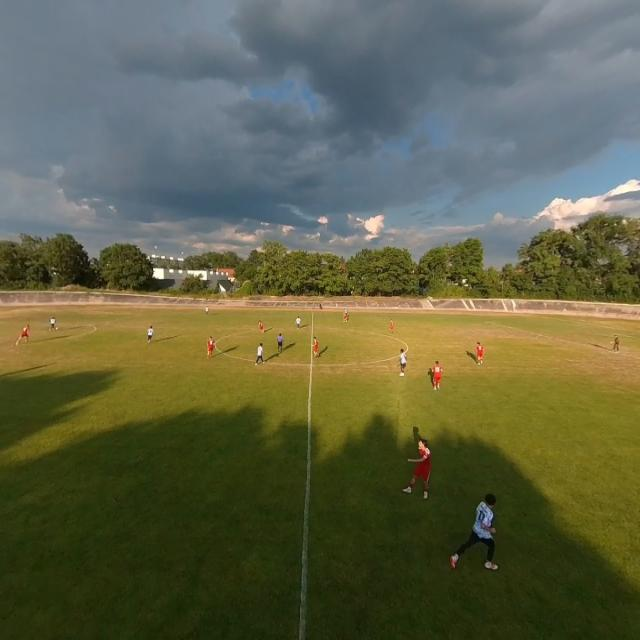ball: (56, 326, 58, 331)
